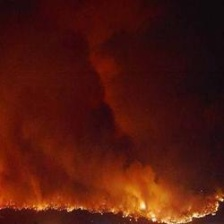fire: (4, 187, 224, 223)
